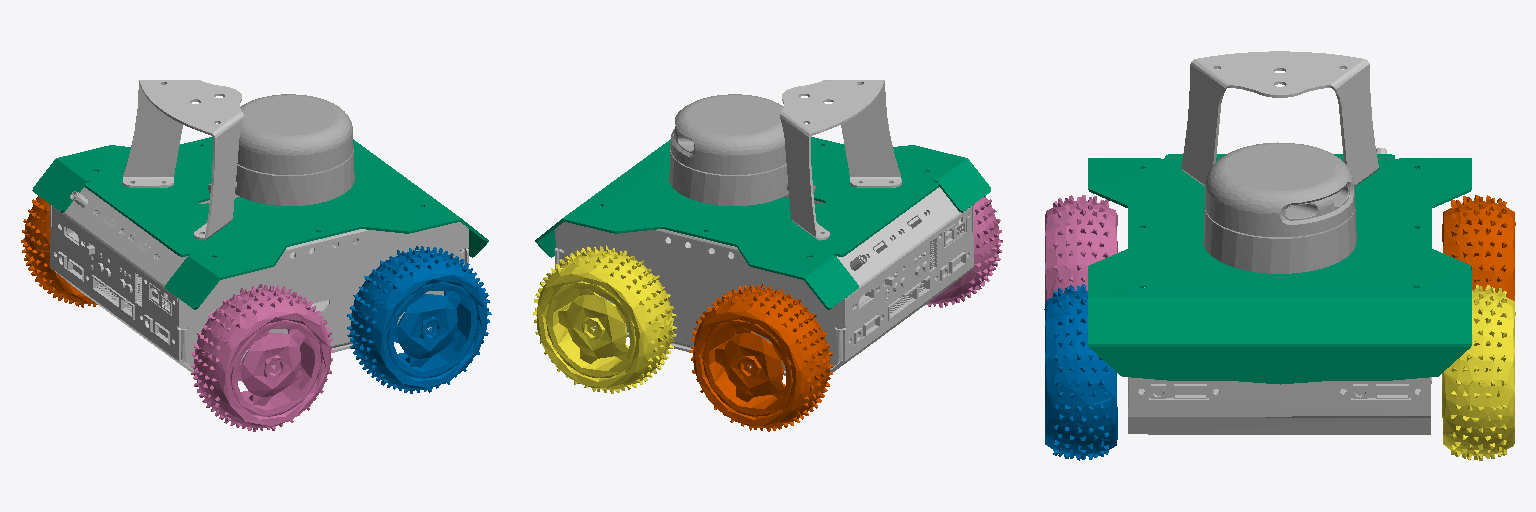
URDF robot description (rosbot):
<?xml version="1.0" ?>
<!-- Copy of rosbot.urdf for the demo recording: wheel and lidar collision meshes replaced by cylinders
     so Gazebo runs in real time without a GPU. Visual meshes are unchanged. -->
<!-- =================================================================================== -->
<!-- |    This document was autogenerated by xacro from rosbot.xacro                   | -->
<!-- |    EDITING THIS FILE BY HAND IS NOT RECOMMENDED                                 | -->
<!-- =================================================================================== -->
<robot name="rosbot">
  <gazebo>
    <plugin filename="libgazebo_ros_skid_steer_drive.so" name="skid_steer_drive_controller">
      <updateRate>50.0</updateRate>
      <robotBaseFrame>/base_link</robotBaseFrame>
      <wheelSeparation>0.20</wheelSeparation>
      <wheelDiameter>0.08</wheelDiameter>
      <torque>5</torque>
      <leftFrontJoint>front_left_wheel_hinge</leftFrontJoint>
      <rightFrontJoint>front_right_wheel_hinge</rightFrontJoint>
      <leftRearJoint>rear_left_wheel_hinge</leftRearJoint>
      <rightRearJoint>rear_right_wheel_hinge</rightRearJoint>
      <topicName>/rosbot/cmd_vel</topicName>
      <commandTopic>/rosbot/cmd_vel</commandTopic>
      <broadcastTF>true</broadcastTF>
      <odometryTopic>odom</odometryTopic>
      <odometryFrame>/odom</odometryFrame>
      <covariance_x>0.0100</covariance_x>
      <covariance_y>0.0100</covariance_y>
      <covariance_yaw>0.010000</covariance_yaw>
    </plugin>
  </gazebo>
  <gazebo>
    <plugin filename="libgazebo_ros_control.so" name="gazebo_ros_control">
      <legacyModeNS>true</legacyModeNS>
    </plugin>
  </gazebo>
  <gazebo reference="base_link">
    <material>Gazebo/White</material>
  </gazebo>
  <gazebo reference="top">
    <material>Gazebo/Red</material>
  </gazebo>
  <gazebo reference="laser">
    <material>Gazebo/Black</material>
  </gazebo>
  <gazebo reference="camera_link">
    <material>Gazebo/Black</material>
  </gazebo>
  <gazebo reference="front_left_wheel">
    <material>Gazebo/Black</material>
  </gazebo>
  <gazebo reference="front_right_wheel">
    <material>Gazebo/Black</material>
  </gazebo>
  <gazebo reference="rear_left_wheel">
    <material>Gazebo/Black</material>
  </gazebo>
  <gazebo reference="rear_right_wheel">
    <material>Gazebo/Black</material>
  </gazebo>
  
  <gazebo reference="laser">
    <sensor name="head_rplidar_sensor" type="ray">
      <pose>0 0 0.06 0 0 0</pose>
      <visualize>false</visualize>
      <update_rate>40</update_rate>
      <ray>
        <scan>
          <horizontal>
            <samples>720</samples>
            <resolution>1</resolution>
            <min_angle>-3.14159265</min_angle>
            <max_angle>3.14159265</max_angle>
          </horizontal>
        </scan>
        <range>
          <min>0.2</min>
          <max>12.0</max>
          <resolution>0.01</resolution>
        </range>
        <noise>
          <type>gaussian</type>
          <mean>0.0</mean>
          <stddev>0.01</stddev>
        </noise>
      </ray>
      <plugin filename="libgazebo_ros_laser.so" name="gazebo_ros_head_rplidar_controller">
        <topicName>scan</topicName>
        <frameName>laser</frameName>
      </plugin>
    </sensor>
  </gazebo>


  <material name="black">
    <color rgba="0.0 0.0 0.0 1.0"/>
  </material>
  <material name="blue">
    <color rgba="0.0 0.0 0.8 1.0"/>
  </material>
  <material name="green">
    <color rgba="0.0 0.8 0.0 1.0"/>
  </material>
  <material name="grey">
    <color rgba="0.2 0.2 0.2 1.0"/>
  </material>
  <material name="orange">
    <color rgba="1.0 0.4235294117647059 0.0392156862745098 1.0"/>
  </material>
  <material name="brown">
    <color rgba="0.8705882352941177 0.8117647058823529 0.7647058823529411 1.0"/>
  </material>
  <material name="red">
    <color rgba="0.8 0.0 0.0 1.0"/>
  </material>
  <material name="white">
    <color rgba="1.0 1.0 1.0 1.0"/>
  </material>
  
  <link name="dummy"/>
  <joint name="dummy_joint" type="fixed">
    <parent link="dummy"/>
    <child link="base_link"/>
  </joint>
  <link name="base_link">
    <pose>0 0 0.1 0 0 0</pose>
    <inertial>
      <mass value="5"/>
      <origin rpy=" 0 0 0" xyz="0 0 0.04"/>
      <inertia ixx="0.01" ixy="0.01" ixz="0" iyy="0.01" iyz="0.01" izz="0.01"/>
    </inertial>
    <collision name="collision">
      <origin rpy="0 0 0" xyz="0 0 0.02"/>
      <geometry>
        <box size="0.20 0.15 0.04"/>
      </geometry>
    </collision>
    <visual name="base_link_visual">
      <origin rpy=" 1.5707 0 1.5707" xyz="0 0 -0.02"/>
      <geometry>
        <mesh filename="package://gruppe2_bringup/meshes/box.dae" scale="0.001 0.001 0.001"/>
      </geometry>
    </visual>
  </link>
  <joint name="top_joint" type="fixed">
    <axis xyz="0 1 0"/>
    <origin rpy="0 0 0" xyz="0 0 0"/>
    <parent link="base_link"/>
    <child link="top"/>
  </joint>
  <link name="top">
    <pose>0 0 0 0 0 0</pose>
    <inertial>
      <mass value="0.01"/>
      <origin rpy=" 0 0 0" xyz="0 0 0.055"/>
      <inertia ixx="0.0" ixy="0" ixz="0" iyy="0.0" iyz="0" izz="0.0"/>
    </inertial>
    <visual name="top">
      <origin rpy=" 1.5707 0 1.5707" xyz="0 0 0.055"/>
      <geometry>
        <mesh filename="package://gruppe2_bringup/meshes/upper.dae" scale="0.001 0.001 0.001"/>
      </geometry>
    </visual>
  </link>
  <link name="front_left_wheel">
    <collision name="collision">
      <origin rpy="1.5707 0 0" xyz="0 0 0"/>
      <geometry>
        <cylinder radius="0.04" length="0.035"/>
      </geometry>
      <surface>
        <friction>
          <ode>
            <mu>10</mu>
            <mu2>10</mu2>
          </ode>
        </friction>
      </surface>
    </collision>
    <visual name="front_left_wheel_visual">
      <origin rpy="0 0 1.5707" xyz="0 0 0"/>
      <geometry>
        <mesh filename="package://gruppe2_bringup/meshes/wheel.dae" scale="0.001 0.001 0.001"/>
      </geometry>
    </visual>
    <inertial>
      <origin rpy="0 1.5707 1.5707" xyz="0 0 0"/>
      <mass value="0.5"/>
      <inertia ixx="0.001" ixy="0.0" ixz="0.0" iyy="0.001" iyz="0.0" izz="0.001"/>
    </inertial>
  </link>
  <link name="front_right_wheel">
    <collision name="collision">
      <origin rpy="1.5707 0 0" xyz="0 0 0"/>
      <geometry>
        <cylinder radius="0.04" length="0.035"/>
      </geometry>
      <surface>
        <friction>
          <ode>
            <mu>10</mu>
            <mu2>10</mu2>
          </ode>
        </friction>
      </surface>
    </collision>
    <visual name="front_right_wheel_visual">
      <origin rpy="0 0 -1.5707" xyz="0 0 0"/>
      <geometry>
        <mesh filename="package://gruppe2_bringup/meshes/wheel.dae" scale="0.001 0.001 0.001"/>
      </geometry>
    </visual>
    <inertial>
      <origin rpy="0 1.5707 1.5707" xyz="0 0 0"/>
      <mass value="0.5"/>
      <inertia ixx="0.001" ixy="0.0" ixz="0.0" iyy="0.001" iyz="0.0" izz="0.001"/>
    </inertial>
  </link>
  <link name="rear_left_wheel">
    <collision name="collision">
      <origin rpy="1.5707 0 0" xyz="0 0 0"/>
      <geometry>
        <cylinder radius="0.04" length="0.035"/>
      </geometry>
      <surface>
        <friction>
          <ode>
            <mu>10</mu>
            <mu2>10</mu2>
          </ode>
        </friction>
      </surface>
    </collision>
    <visual name="rear_left_wheel_visual">
      <origin rpy="0 0 1.5707" xyz="0 0 0"/>
      <geometry>
        <mesh filename="package://gruppe2_bringup/meshes/wheel.dae" scale="0.001 0.001 0.001"/>
      </geometry>
    </visual>
    <inertial>
      <origin rpy="0 1.5707 1.5707" xyz="0 0 0"/>
      <mass value="0.5"/>
      <inertia ixx="0.001" ixy="0.0" ixz="0.0" iyy="0.001" iyz="0.0" izz="0.001"/>
    </inertial>
  </link>
  <link name="rear_right_wheel">
    <collision name="collision">
      <origin rpy="1.5707 0 0" xyz="0 0 0"/>
      <geometry>
        <cylinder radius="0.04" length="0.035"/>
      </geometry>
      <surface>
        <friction>
          <ode>
            <mu>10</mu>
            <mu2>10</mu2>
          </ode>
        </friction>
      </surface>
    </collision>
    <visual name="rear_right_wheel_visual">
      <origin rpy="0 0 -1.5707" xyz="0 0 0"/>
      <geometry>
        <mesh filename="package://gruppe2_bringup/meshes/wheel.dae" scale="0.001 0.001 0.001"/>
      </geometry>
    </visual>
    <inertial>
      <origin rpy="0 1.5707 1.5707" xyz="0 0 0"/>
      <mass value="0.5"/>
      <inertia ixx="0.001" ixy="0.0" ixz="0.0" iyy="0.001" iyz="0.0" izz="0.001"/>
    </inertial>
  </link>
  <joint name="front_left_wheel_hinge" type="continuous">
    <origin rpy="0 0 0" xyz="0.05 0.11 0"/>
    <child link="front_left_wheel"/>
    <parent link="base_link"/>
    <axis rpy="0 0 0" xyz="0 1 0"/>
    <limit effort="1" velocity="10"/>
    <joint_properties damping="5.0" friction="1.0"/>
  </joint>
  <transmission name="front_left_wheel_trans" type="SimpleTransmission">
    <type>transmission_interface/SimpleTransmission</type>
    <actuator name="front_left_wheel_motor">
      <mechanicalReduction>1</mechanicalReduction>
    </actuator>
    <joint name="front_left_wheel_hinge">
      <hardwareInterface>hardware_interface/EffortJointInterface</hardwareInterface>
    </joint>
  </transmission>
  <joint name="front_right_wheel_hinge" type="continuous">
    <origin rpy="0 0 0" xyz="0.05 -0.11 0"/>
    <child link="front_right_wheel"/>
    <parent link="base_link"/>
    <axis rpy="0 0 0" xyz="0 1 0"/>
    <limit effort="1" velocity="10"/>
    <joint_properties damping="5.0" friction="1.0"/>
  </joint>
  <transmission name="front_right_wheel_trans" type="SimpleTransmission">
    <type>transmission_interface/SimpleTransmission</type>
    <actuator name="front_right_wheel_motor">
      <mechanicalReduction>1</mechanicalReduction>
    </actuator>
    <joint name="front_right_wheel_hinge">
      <hardwareInterface>hardware_interface/EffortJointInterface</hardwareInterface>
    </joint>
  </transmission>
  <joint name="rear_left_wheel_hinge" type="continuous">
    <origin rpy="0 0 0" xyz="-0.055 0.11 0"/>
    <child link="rear_left_wheel"/>
    <parent link="base_link"/>
    <axis rpy="0 0 0" xyz="0 1 0"/>
    <limit effort="1" velocity="10"/>
    <joint_properties damping="5.0" friction="1.0"/>
  </joint>
  <transmission name="rear_left_wheel_trans" type="SimpleTransmission">
    <type>transmission_interface/SimpleTransmission</type>
    <actuator name="rear_left_wheel_motor">
      <mechanicalReduction>1</mechanicalReduction>
    </actuator>
    <joint name="rear_left_wheel_hinge">
      <hardwareInterface>hardware_interface/EffortJointInterface</hardwareInterface>
    </joint>
  </transmission>
  <joint name="rear_right_wheel_hinge" type="continuous">
    <origin rpy="0 0 0" xyz="-0.055 -0.11 0"/>
    <child link="rear_right_wheel"/>
    <parent link="base_link"/>
    <axis rpy="0 0 0" xyz="0 1 0"/>
    <limit effort="1" velocity="10"/>
    <joint_properties damping="5.0" friction="1.0"/>
  </joint>
  <transmission name="rear_right_wheel_trans" type="SimpleTransmission">
    <type>transmission_interface/SimpleTransmission</type>
    <actuator name="rear_right_wheel_motor">
      <mechanicalReduction>1</mechanicalReduction>
    </actuator>
    <joint name="rear_right_wheel_hinge">
      <hardwareInterface>hardware_interface/EffortJointInterface</hardwareInterface>
    </joint>
  </transmission>

  
  <joint name="rplidar_joint" type="fixed">
    <axis xyz="0 1 0"/>
    <origin rpy="0 0 3.14" xyz="0.02 0 0.058"/>
    <parent link="base_link"/>
    <child link="laser"/>
  </joint>
  <!-- rplidar Laser -->
  <link name="laser">
    <collision>
      <origin rpy="0 0 0" xyz="0 0 0.02"/>
      <geometry>
        <cylinder radius="0.035" length="0.04"/>
      </geometry>
    </collision>
    <visual>
      <origin rpy="1.5707 0 4.71" xyz="0 0 0"/>
      <geometry>
        <mesh filename="package://gruppe2_bringup/meshes/rplidar.dae" scale="0.001 0.001 0.001"/>
      </geometry>
    </visual>
    <inertial>
      <mass value="1e-5"/>
      <origin rpy="1.5707 0 4.71" xyz="0 0 0"/>
      <inertia ixx="0" ixy="0" ixz="0" iyy="0" iyz="0" izz="0"/>
    </inertial>
  </link>
  
</robot>

--- Facts derived from the render (not from the file) ---
Views: 3 orthographic renders of the robot side by side, from view 1: azimuth 30°, elevation 25°; view 2: azimuth 150°, elevation 25°; view 3: azimuth 270°, elevation 25°.
Robot: rosbot — 8 links, 7 joints (4 continuous, 3 fixed); root link dummy; default pose: all joints at 0.
Links seen in each view (by area): view 1: base_link, top, front_right_wheel, rear_right_wheel, laser, rear_left_wheel; view 2: base_link, top, rear_left_wheel, front_left_wheel, laser, rear_right_wheel; view 3: top, base_link, laser, front_left_wheel, front_right_wheel, rear_right_wheel, rear_left_wheel.
Link boxes in pixels (x1,y1,x2,y2): base_link: [50, 80, 468, 372]; top: [32, 137, 488, 309]; front_right_wheel: [347, 246, 491, 393]; rear_right_wheel: [191, 284, 334, 431]; laser: [208, 94, 354, 205]; rear_left_wheel: [21, 196, 97, 307]; base_link: [555, 80, 973, 375]; top: [535, 137, 990, 309]; rear_left_wheel: [689, 284, 832, 431]; front_left_wheel: [533, 245, 676, 393]; laser: [669, 94, 815, 205]; rear_right_wheel: [926, 196, 1002, 307]; top: [1088, 154, 1471, 384]; base_link: [1128, 51, 1431, 434]; laser: [1203, 142, 1356, 273]; front_left_wheel: [1442, 285, 1515, 460]; front_right_wheel: [1044, 284, 1117, 460]; rear_right_wheel: [1045, 195, 1117, 303]; rear_left_wheel: [1442, 195, 1515, 300].
Bounding box of the posed robot: 0.2001 × 0.2332 × 0.1655 m (x, y, z).
Meshes: 4 distinct files referenced, 7 mesh visuals loaded (4 Collada DAE).
